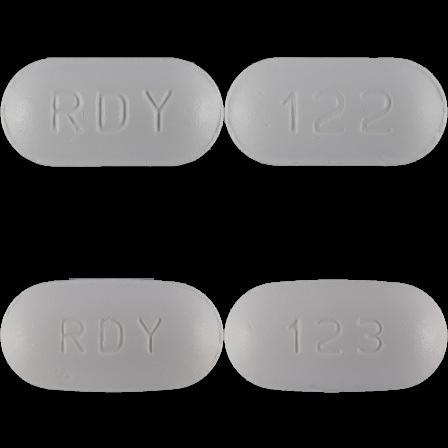0615-7770: (0, 0, 224, 224)
